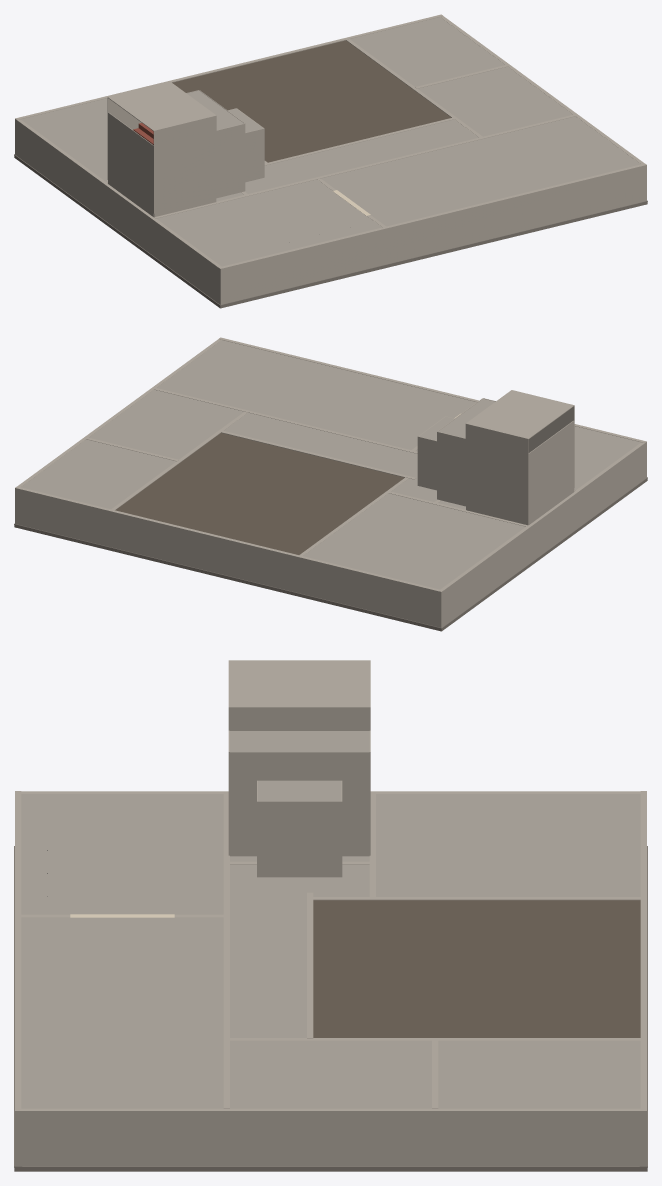
3 renders of one model, top to bottom at view 1: azimuth 30°, elevation 25°; view 2: azimuth 150°, elevation 25°; view 3: azimuth 270°, elevation 25°, orthographic. The views are drawn at different scales.
Visible parts, largest first — view 1: sm_techo, sm_tierra, sm_muro_h0_0, sm_escalera_arriba, sm_muro_v0_0, sm_muro_h0_0_lam, sm_muro_h300_0, sm_muro_h100_0, sm_escalera_arriba_techo, sm_muro_v360_0, sm_muro_h0_0_rod, sm_muro_v0_0_lam (+3 smaller); view 2: sm_techo, sm_tierra, sm_muro_h300_0, sm_escalera_arriba, sm_muro_v0_0, sm_muro_h300_0_lam, sm_muro_h0_0, sm_escalera_arriba_techo, sm_muro_v360_0, sm_muro_h100_0, sm_muro_h300_0_rod, sm_muro_h140_80 (+4 smaller); view 3: sm_techo, sm_tierra, sm_muro_v360_0, sm_escalera_arriba, sm_escalera_arriba_techo, sm_muro_v360_0_lam, sm_muro_h0_0, sm_muro_h300_0, sm_muro_h100_0, sm_muro_v0_0, sm_muro_v120_140, sm_muro_v360_0_rod (+2 smaller).
Boxes of the visible parts, bbox=[...] form: sm_techo: bbox=[21, 17, 640, 266]; sm_tierra: bbox=[172, 40, 451, 162]; sm_muro_h0_0: bbox=[218, 163, 646, 304]; sm_escalera_arriba: bbox=[107, 82, 264, 213]; sm_muro_v0_0: bbox=[17, 119, 221, 302]; sm_muro_h0_0_lam: bbox=[218, 202, 647, 308]; sm_muro_h300_0: bbox=[15, 14, 442, 155]; sm_muro_h100_0: bbox=[154, 114, 575, 218]; sm_escalera_arriba_techo: bbox=[187, 90, 263, 132]; sm_muro_v360_0: bbox=[440, 16, 644, 164]; sm_muro_h0_0_rod: bbox=[217, 200, 647, 305]; sm_muro_v0_0_lam: bbox=[16, 157, 217, 306]; sm_techo: bbox=[21, 340, 640, 589]; sm_tierra: bbox=[115, 433, 404, 554]; sm_muro_h300_0: bbox=[15, 486, 443, 627]; sm_escalera_arriba: bbox=[417, 390, 574, 521]; sm_muro_v0_0: bbox=[440, 442, 644, 625]; sm_muro_h300_0_lam: bbox=[14, 525, 443, 631]; sm_muro_h0_0: bbox=[219, 337, 646, 478]; sm_escalera_arriba_techo: bbox=[419, 398, 494, 440]; sm_muro_v360_0: bbox=[17, 339, 221, 487]; sm_muro_h100_0: bbox=[154, 388, 575, 491]; sm_muro_h300_0_rod: bbox=[14, 523, 444, 628]; sm_muro_h140_80: bbox=[221, 431, 415, 479]; sm_techo: bbox=[21, 794, 640, 1108]; sm_tierra: bbox=[313, 900, 640, 1037]; sm_muro_v360_0: bbox=[21, 1108, 640, 1166]; sm_escalera_arriba: bbox=[228, 660, 370, 877]; sm_escalera_arriba_techo: bbox=[230, 731, 369, 801]; sm_muro_v360_0_lam: bbox=[22, 1167, 639, 1171]; sm_muro_h0_0: bbox=[15, 791, 21, 1166]; sm_muro_h300_0: bbox=[640, 791, 646, 1166]; sm_muro_h100_0: bbox=[223, 793, 229, 1108]; sm_muro_v0_0: bbox=[21, 791, 640, 793]; sm_muro_v120_140: bbox=[313, 897, 640, 900]; sm_muro_v360_0_rod: bbox=[22, 1166, 639, 1167].
Bounding box in the file's own units: 36.4 × 10.57 × 30.4.
